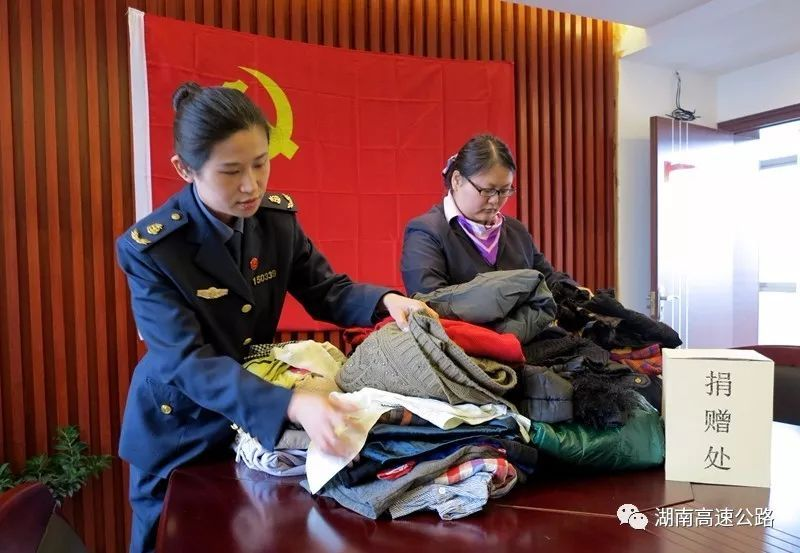other: (105, 80, 463, 525), (401, 118, 664, 443)
